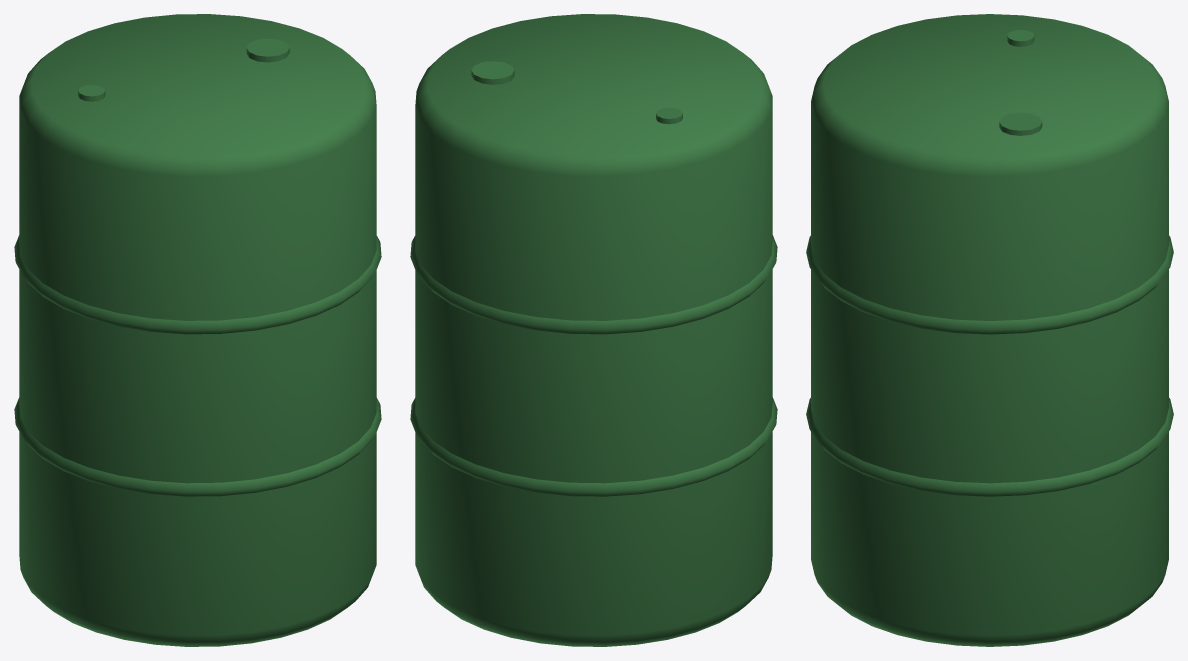
The model's file is drum_green.fbx.
3 renders of one model, left to right at view 1: azimuth 30°, elevation 25°; view 2: azimuth 150°, elevation 25°; view 3: azimuth 270°, elevation 25°, orthographic.
Visible parts, largest first — view 1: drum_green; view 2: drum_green; view 3: drum_green.
Part boxes in pixels (left/top/right/bottom): drum_green: left=14, top=14, right=381, bottom=646; drum_green: left=410, top=14, right=777, bottom=646; drum_green: left=806, top=14, right=1173, bottom=646.
Bounding box in the file's own units: 0.596 × 0.888 × 0.596.
